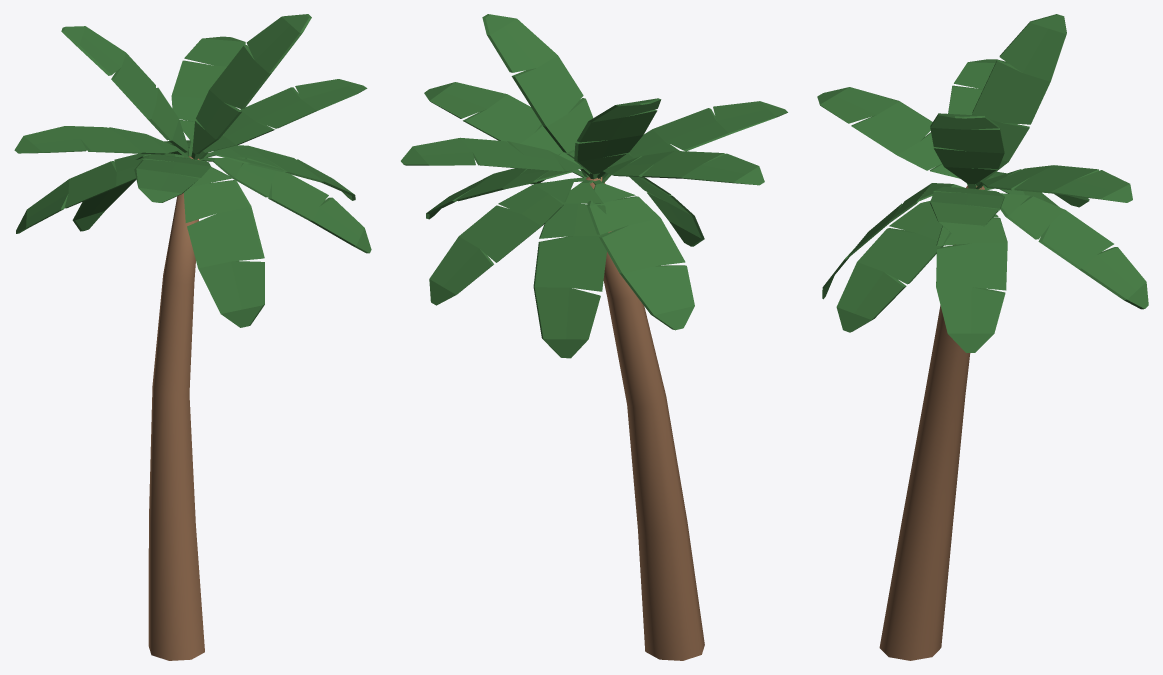
Rendered from coqueiro1.gltf.
3 renders of one model, left to right at view 1: azimuth 30°, elevation 25°; view 2: azimuth 150°, elevation 25°; view 3: azimuth 270°, elevation 25°, orthographic. The views are drawn at different scales.
Visible parts, largest first — view 1: Coqueiro 1; view 2: Coqueiro 1; view 3: Coqueiro 1.
Part boxes in pixels (<box>): Coqueiro 1: <box>14,14,371,660</box>; Coqueiro 1: <box>401,14,787,660</box>; Coqueiro 1: <box>817,14,1148,660</box>.
Bounding box in the file's own units: 19.56 × 32.35 × 15.93.
